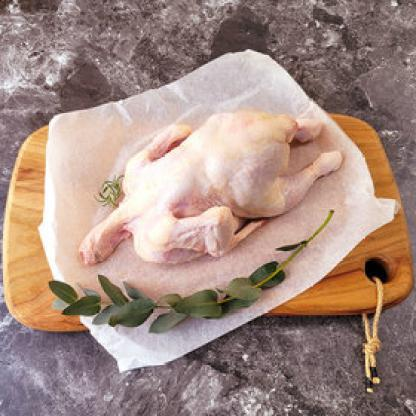chicken: (65, 104, 355, 266)
